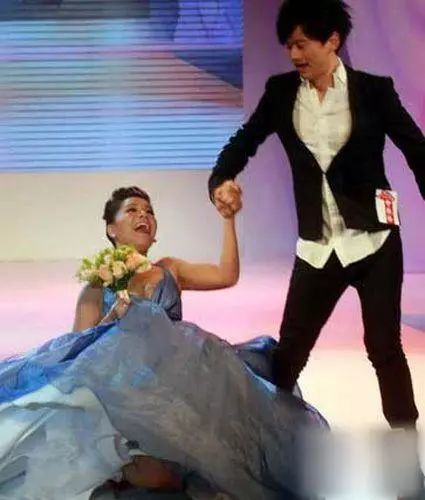fall: (4, 164, 375, 500)
